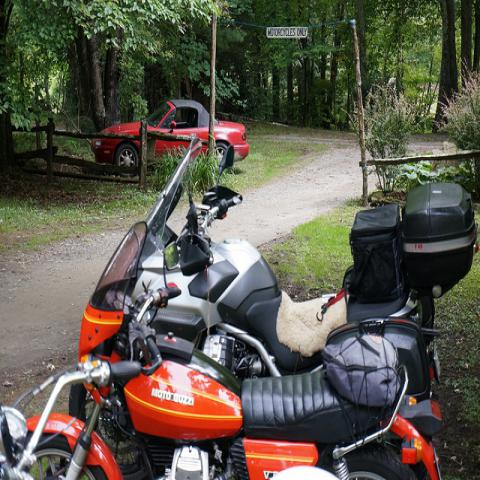car: (87, 99, 250, 179)
motorcycle: (12, 138, 408, 414), (157, 181, 479, 401)
